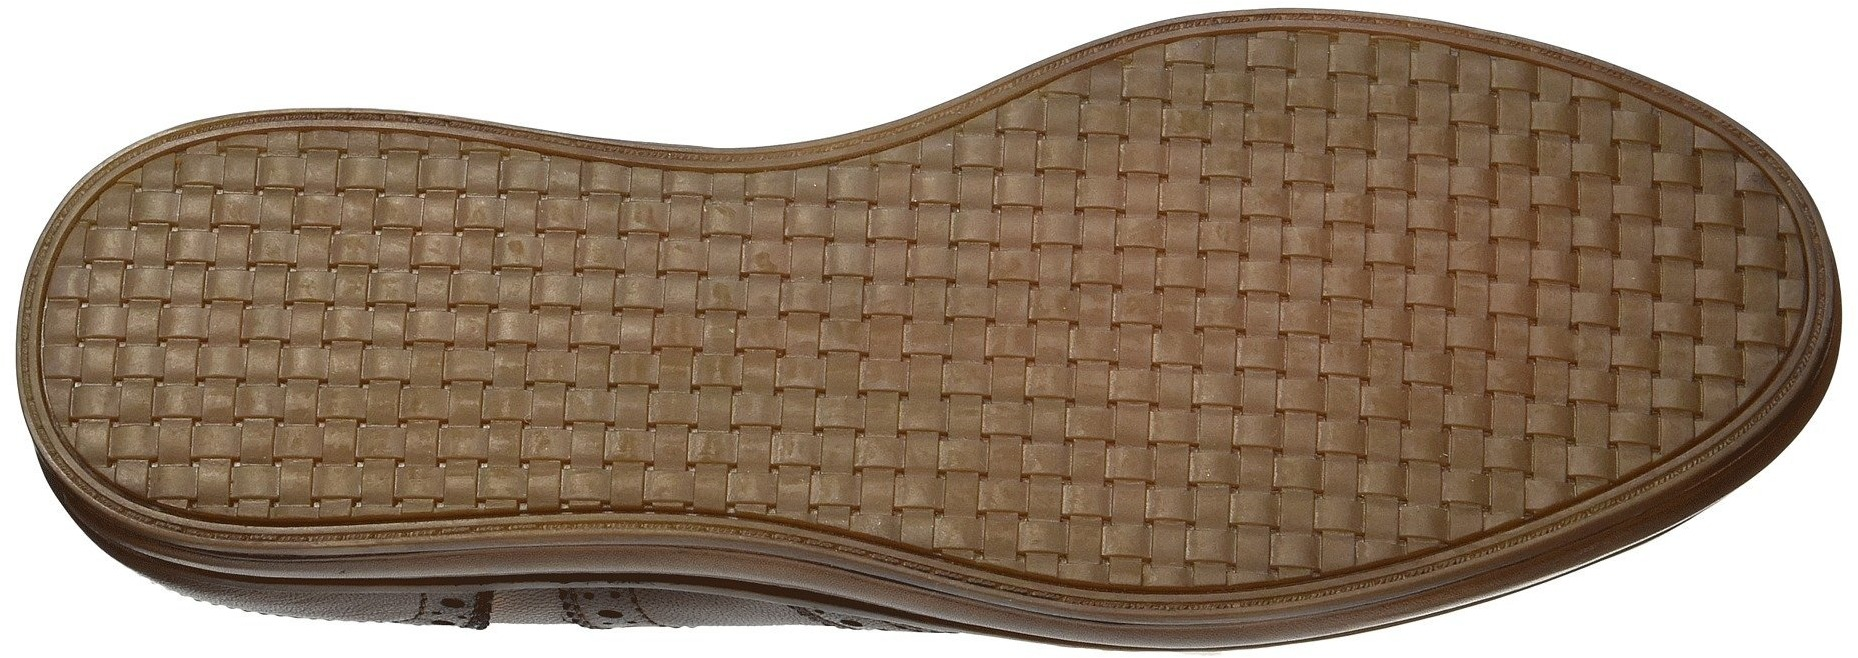quad: (1037, 84, 1530, 537), (672, 164, 1042, 518), (305, 174, 669, 510), (1456, 136, 1741, 413), (107, 200, 390, 475), (1549, 168, 1764, 389), (72, 242, 287, 443)
